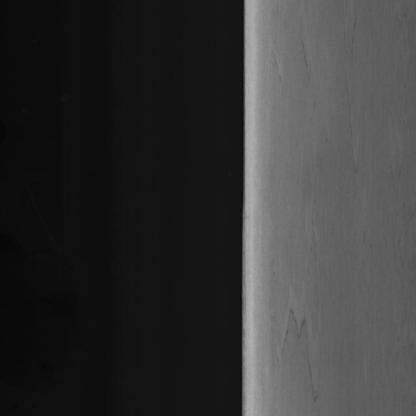silk_spot: (267, 0, 367, 400)
